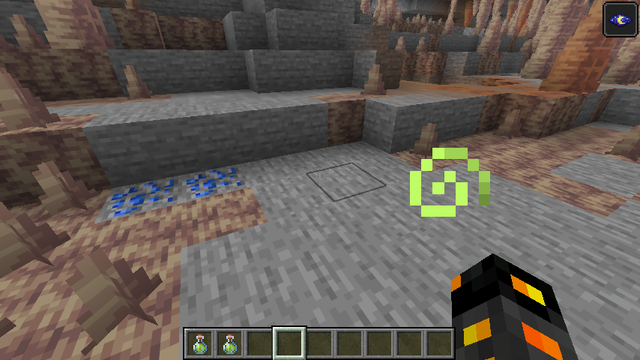lapis: (102, 163, 246, 220)
